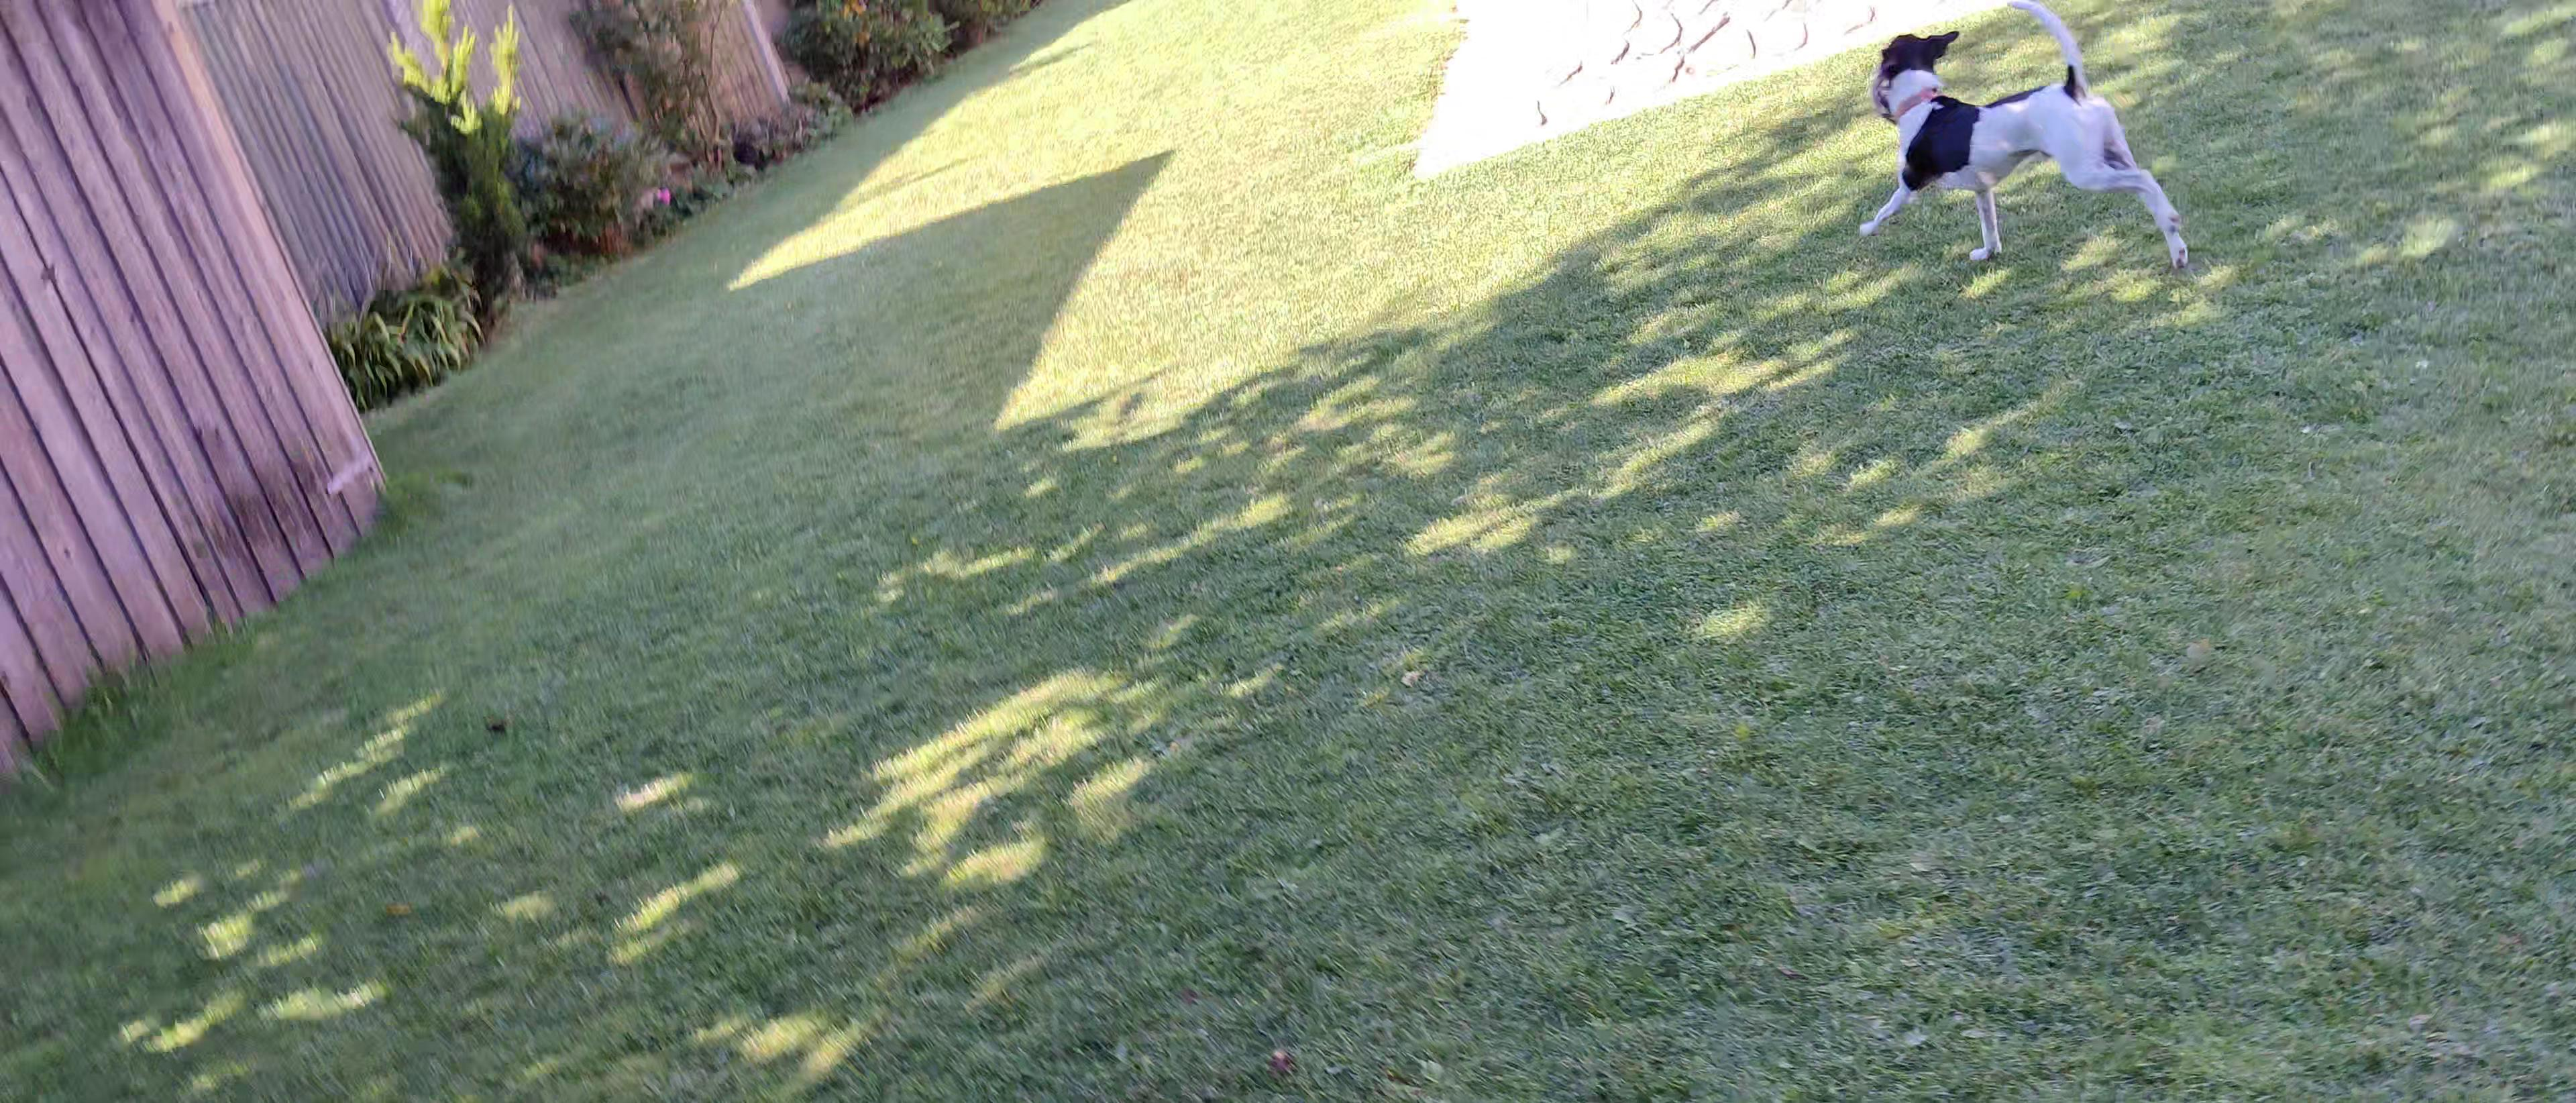Dog: (1851, 0, 2192, 281)
